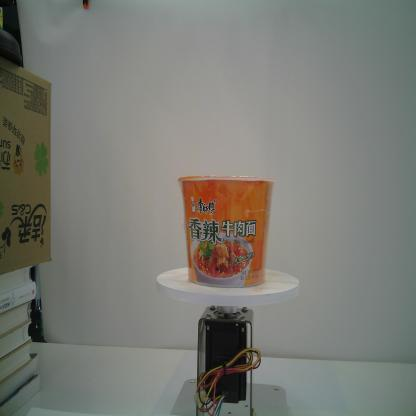Instant Noodles: (176, 172, 276, 290)
